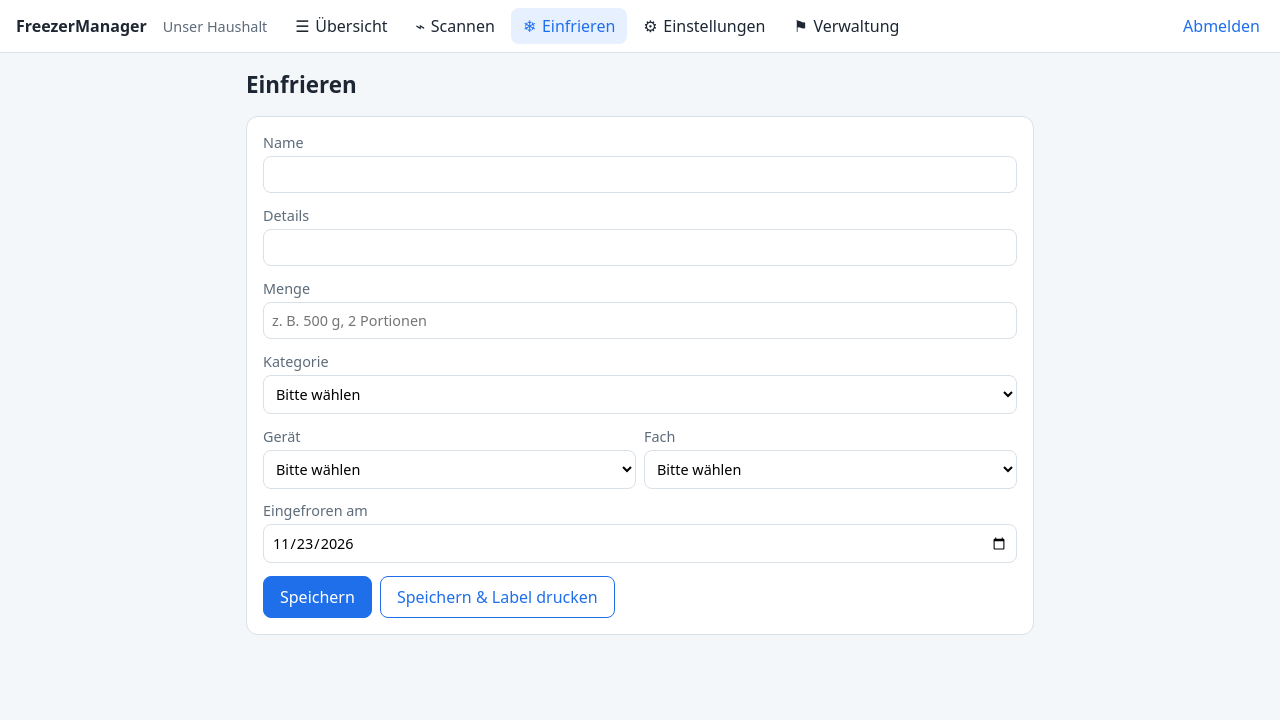
saves, clears the item fields and keeps category and location for the next item
Expected: the heading "Einfrieren" is shown, [246, 69, 357, 100]
Type "Hackfleisch" into the field labelled "Name" at [640, 175], box [263, 156, 1017, 193]
Select "Fleisch" in the dropdown labelled "Kategorie" at [640, 394], box [263, 375, 1017, 414]
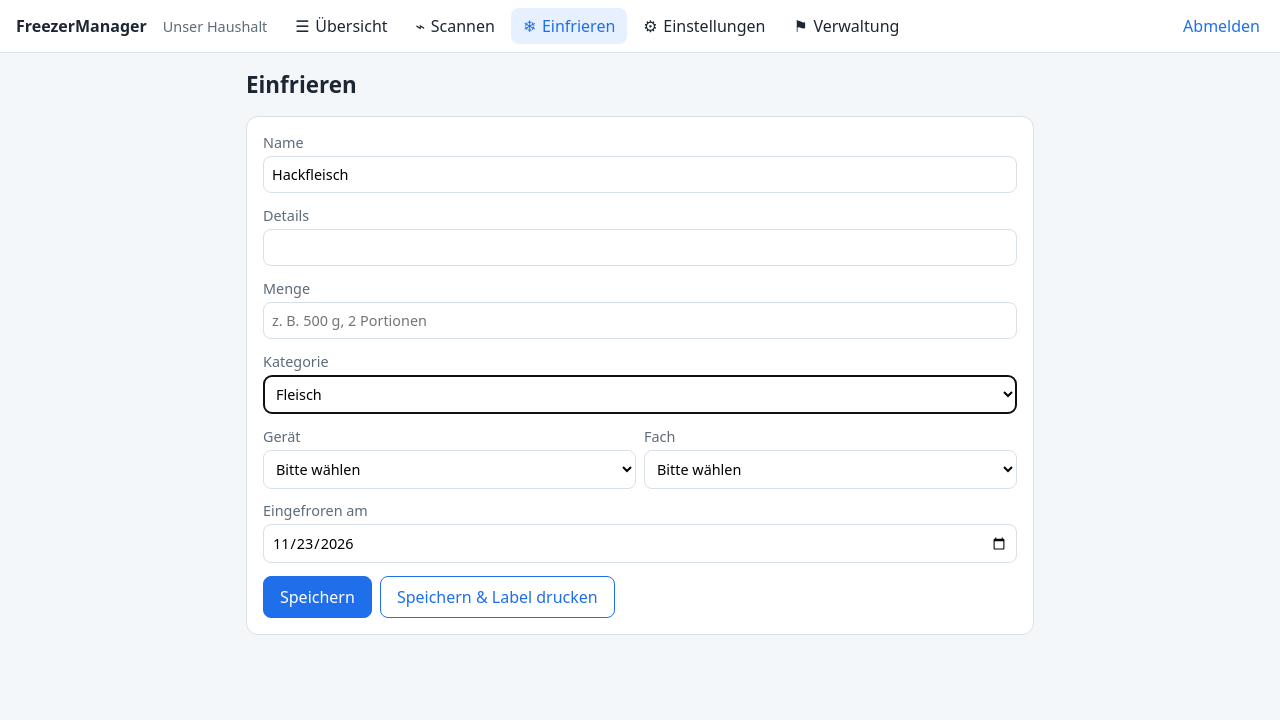
Select "Keller-Truhe" in the dropdown labelled "Gerät" at [450, 469], box [263, 450, 636, 489]
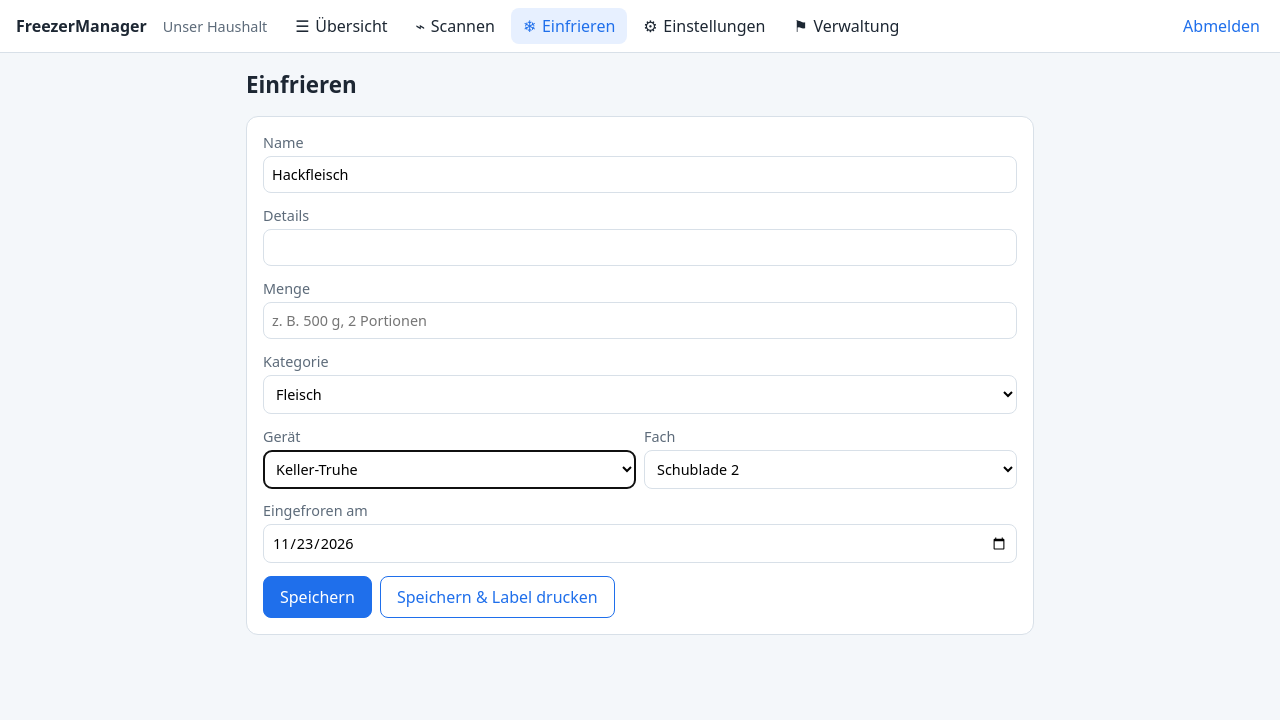
Select "Schublade 2" in the dropdown labelled "Fach" at [830, 469], box [644, 450, 1017, 489]
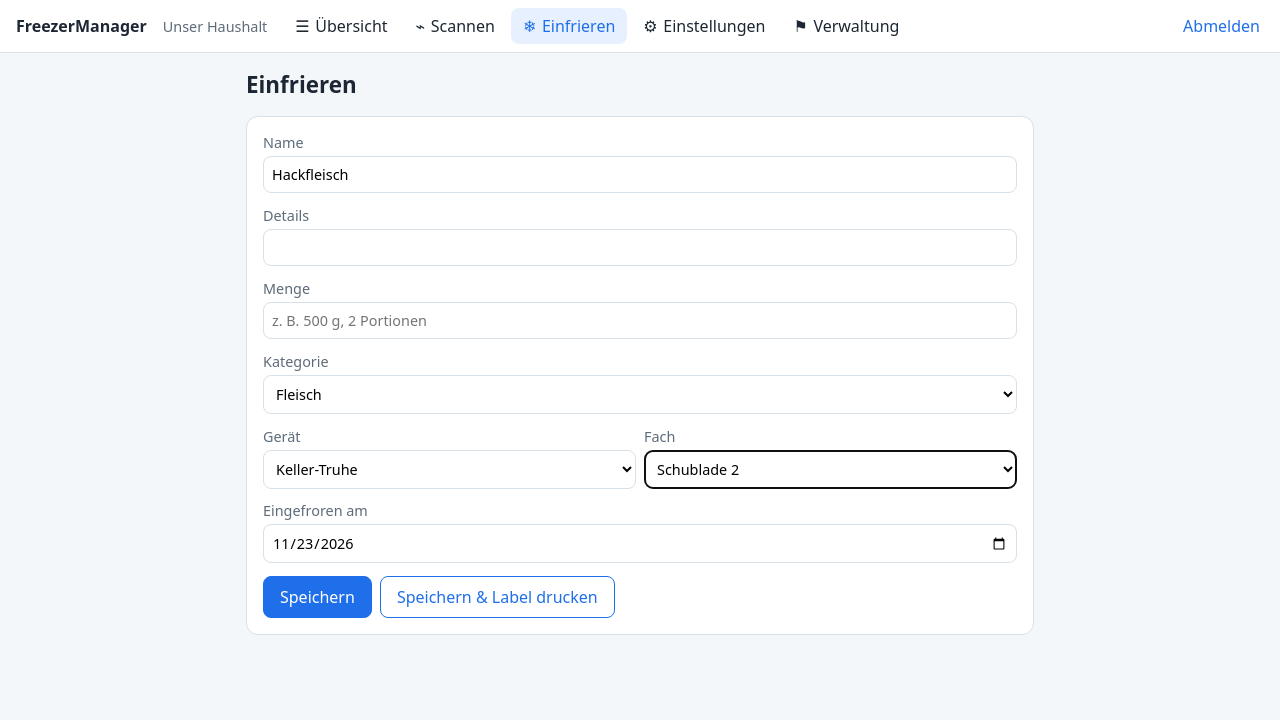
Type "500 g" into the field labelled "Menge" at [640, 320], box [263, 302, 1017, 339]
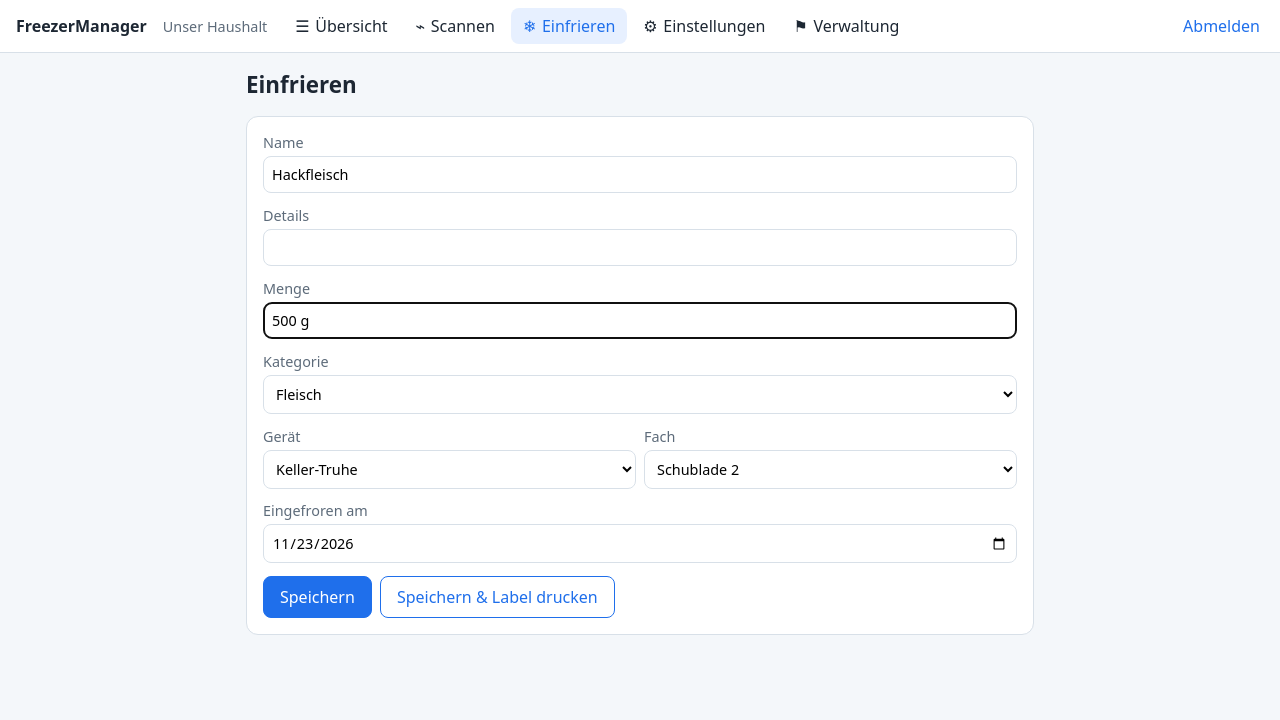
Type "für Bolognese" into the field labelled "Details" at [640, 248], box [263, 229, 1017, 266]
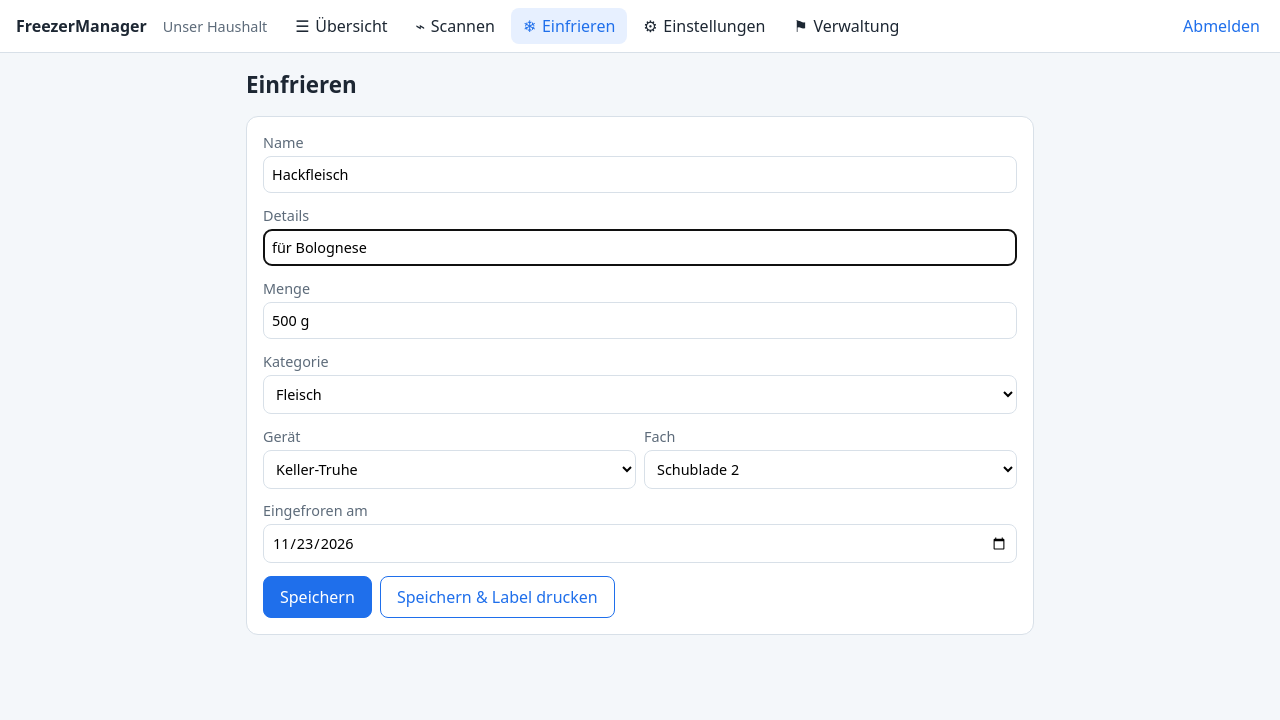
Click the button "Speichern" at [317, 597], box [263, 576, 372, 618]
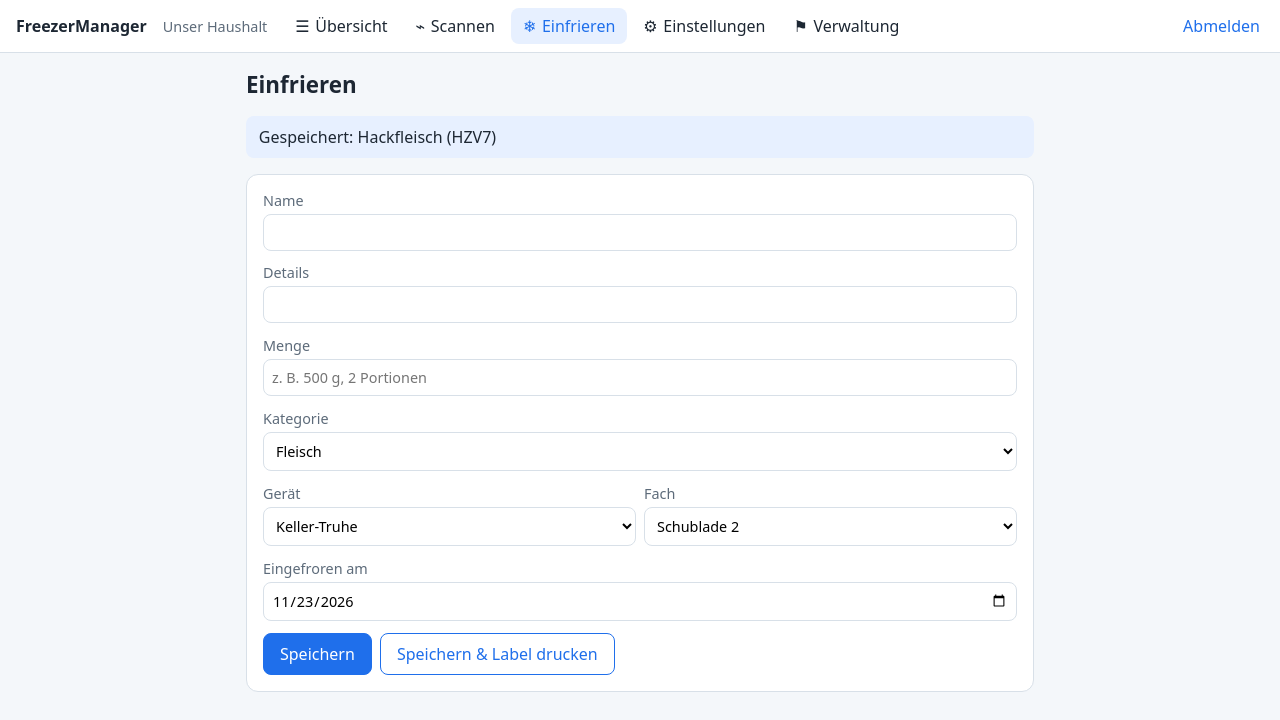
Now the text "Gespeichert: Hackfleisch" is shown, box [259, 126, 496, 148]
Now the field labelled "Name" is empty, box [263, 214, 1017, 251]
Now the field labelled "Menge" is empty, box [263, 359, 1017, 396]
